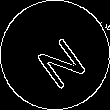N_NW: (24, 23, 86, 87)
